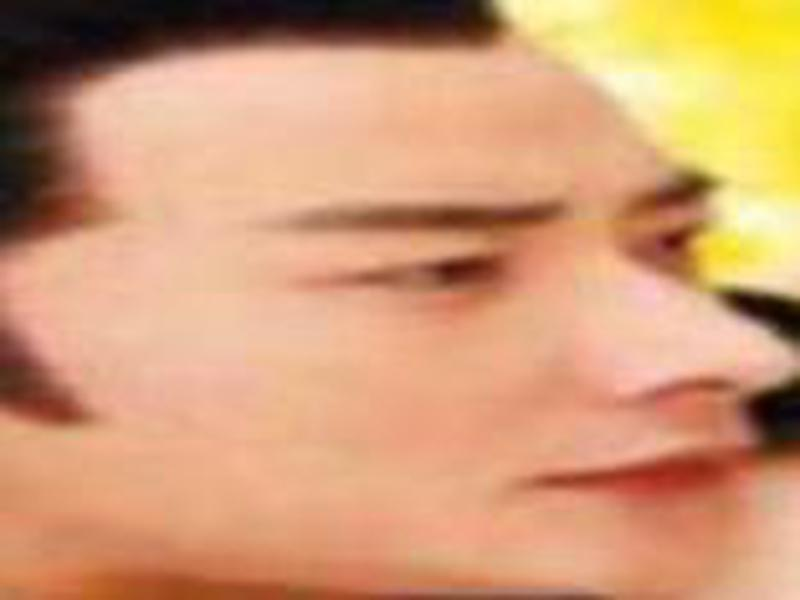without_mask: (21, 34, 799, 600)
